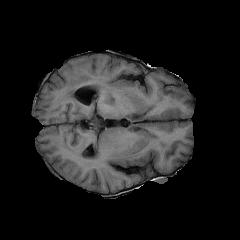glioma: (64, 70, 122, 106)
